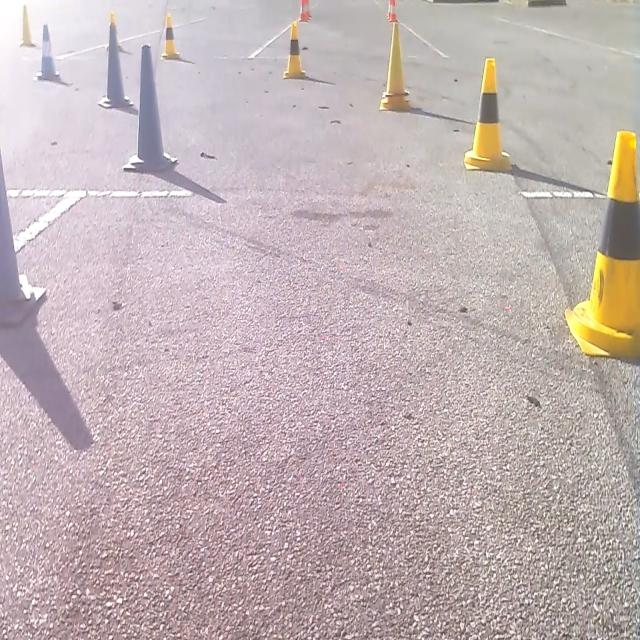blue_cone: (0, 154, 46, 327), (122, 42, 178, 174), (97, 10, 134, 110), (34, 22, 60, 81)
orange_cone: (298, 0, 312, 22), (387, 0, 398, 23)
yellow_cone: (564, 128, 639, 362), (463, 56, 511, 172), (379, 20, 410, 110), (283, 20, 306, 80), (160, 12, 180, 59), (104, 9, 122, 52), (19, 4, 35, 47)
